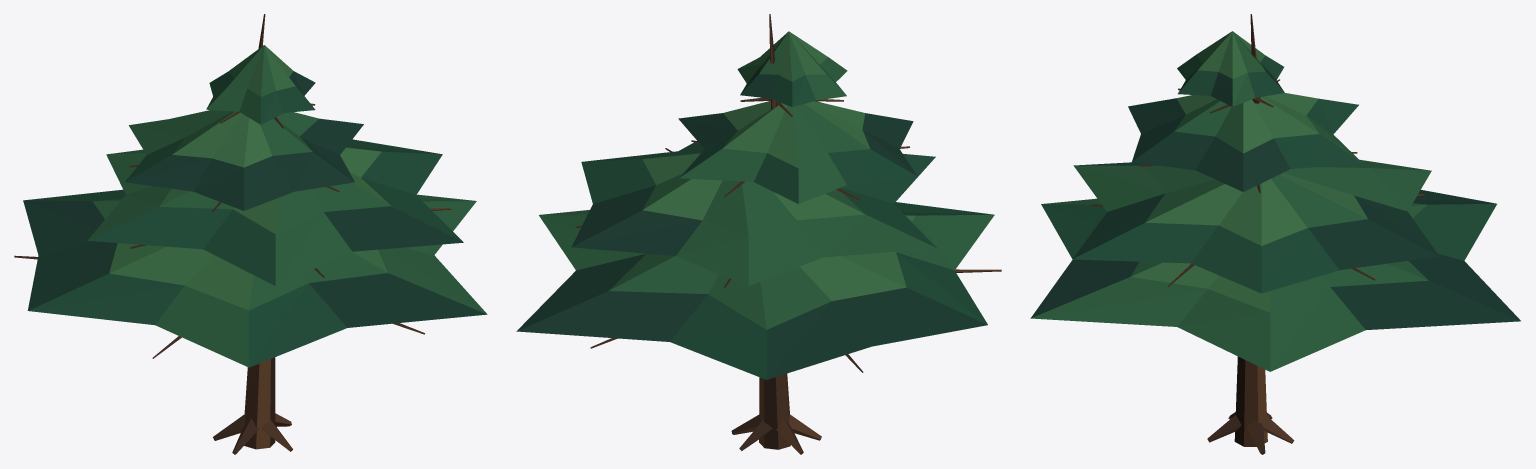
Rendered from tree_cedar_spreading.obj.
3 views of the same model, side by side, from view 1: azimuth 30°, elevation 25°; view 2: azimuth 150°, elevation 25°; view 3: azimuth 270°, elevation 25° (orthographic).
Visible parts, largest first — view 1: tree_cedar_spreading; view 2: tree_cedar_spreading; view 3: tree_cedar_spreading.
Part boxes in pixels (left/top/right/bottom): tree_cedar_spreading: left=14, top=14, right=487, bottom=454; tree_cedar_spreading: left=516, top=14, right=1001, bottom=454; tree_cedar_spreading: left=1030, top=14, right=1520, bottom=454.
Size of the model in its own units: 705 by 640 by 664.
Materials: 1 (1 with a texture image).
